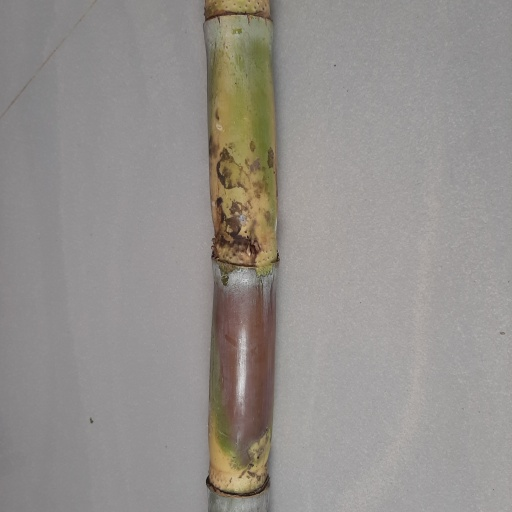Damage_Bud: (245, 245, 259, 265)
